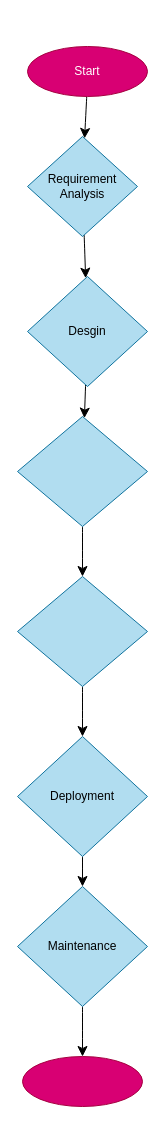
This 165x1124 diagram has some shape labels left out. Here are the shapes that lost their labels. From the top down, the centre of each, then its label:
(82,471): Implementation
(82,631): Testing
(82,1081): End
